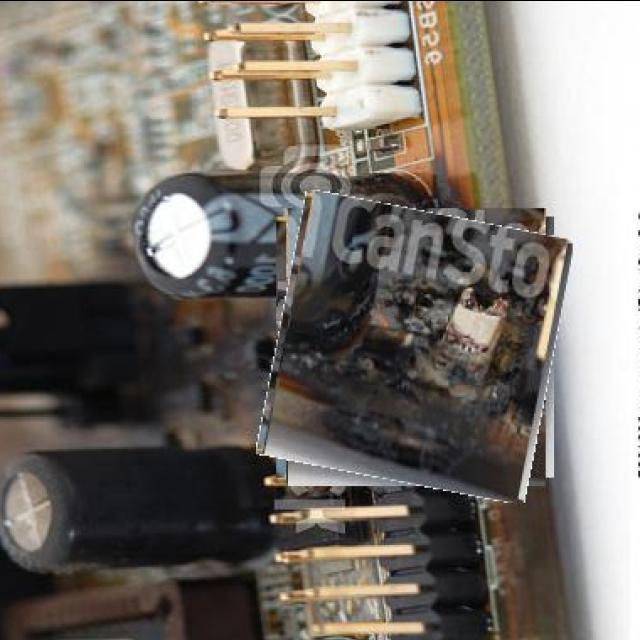Burn: (269, 201, 563, 494)
